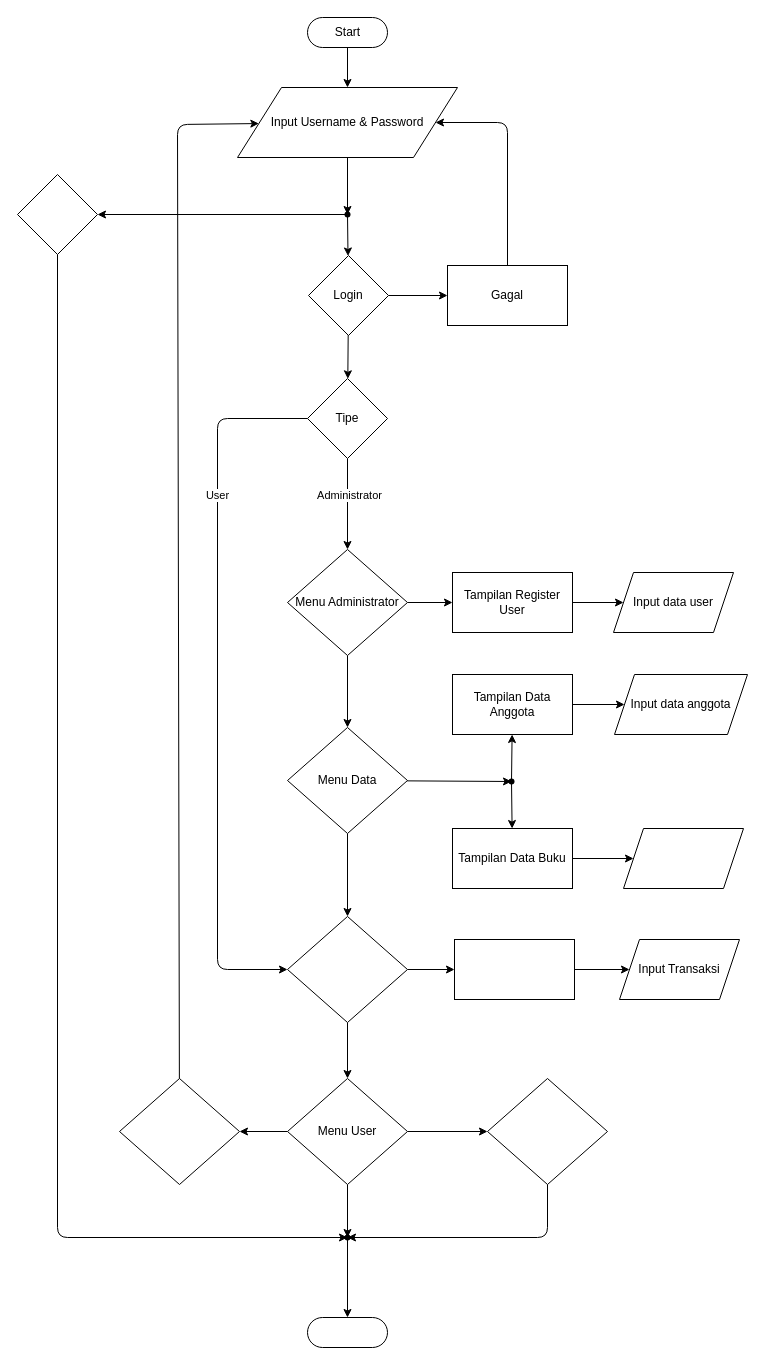
Some shapes in this 765 by 1365 pixel diagram are drawn without their labels. The shapes that lost their labels are listed below. From the top down, each one's centre as x and y in pixels, then its label:
(57,214): Cancel
(683,858): Input data buku
(347,969): Menu Transaksi
(514,969): Tampilan Transaksi
(179,1131): Logout
(547,1131): Keluar
(347,1332): End
